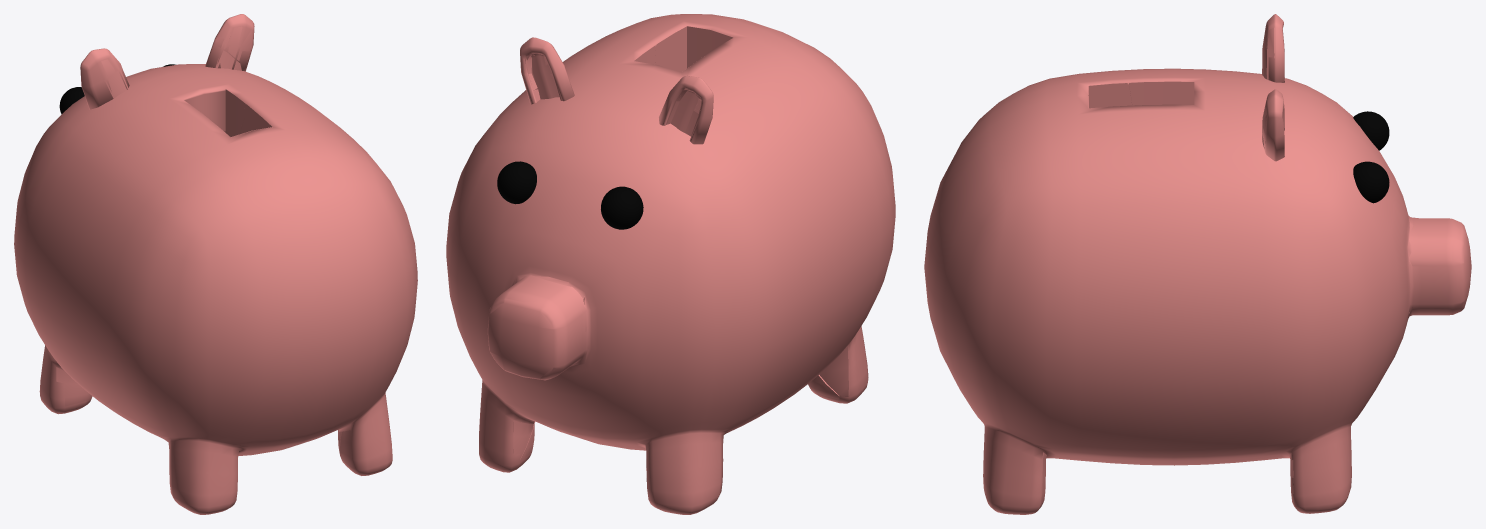
Rendered from M_Pigbank_Edited.fbx.
The picture shows the model from 3 angles, left to right: view 1: azimuth 30°, elevation 25°; view 2: azimuth 150°, elevation 25°; view 3: azimuth 270°, elevation 25°; orthographic projection. The views are drawn at different scales.
Visible parts, largest first — view 1: Pigbank, pigbank.001_cell.020, pigbank.001_cell.018, pigbank.001_cell.013; view 2: Pigbank, pigbank.001_cell.011, pigbank.001_cell.017, pigbank.001_cell, pigbank.001_cell.014; view 3: Pigbank, pigbank.001_cell.017, pigbank.001_cell.020, pigbank.001_cell.011, pingbankcelleyes.
Boxes of the visible parts, <box> form: Pigbank: <box>14,14,417,514</box>; pigbank.001_cell.020: <box>215,50,245,136</box>; pigbank.001_cell.018: <box>56,367,92,406</box>; pigbank.001_cell.013: <box>101,51,128,98</box>; Pigbank: <box>446,14,895,514</box>; pigbank.001_cell.011: <box>655,26,733,72</box>; pigbank.001_cell.017: <box>496,275,588,348</box>; pigbank.001_cell: <box>819,345,849,396</box>; pigbank.001_cell.014: <box>513,420,534,456</box>; Pigbank: <box>924,14,1471,514</box>; pigbank.001_cell.017: <box>1407,216,1461,313</box>; pigbank.001_cell.020: <box>1129,81,1264,148</box>; pigbank.001_cell.011: <box>1088,83,1130,108</box>; pingbankcelleyes: <box>1353,111,1378,191</box>.
Size of the model in its own units: 0.5727 by 0.6678 by 0.8075.
